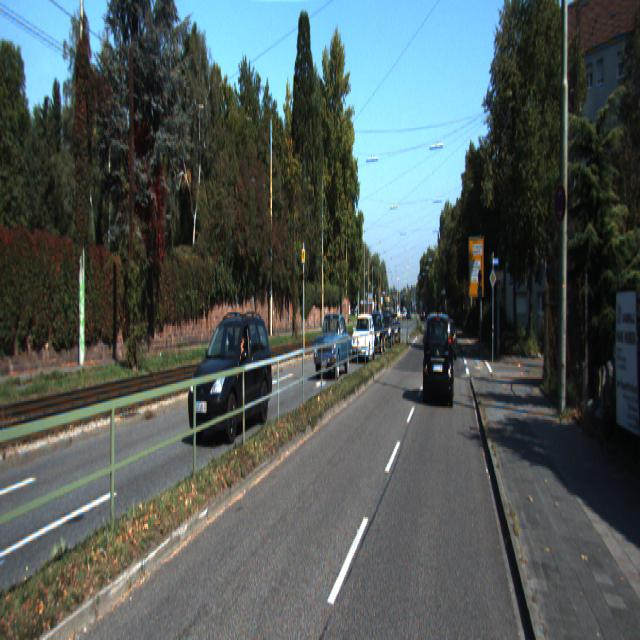Car: (187, 310, 275, 446), (422, 308, 455, 407), (314, 312, 353, 379), (352, 311, 376, 364), (368, 310, 386, 354), (441, 316, 457, 362), (382, 309, 396, 348)
